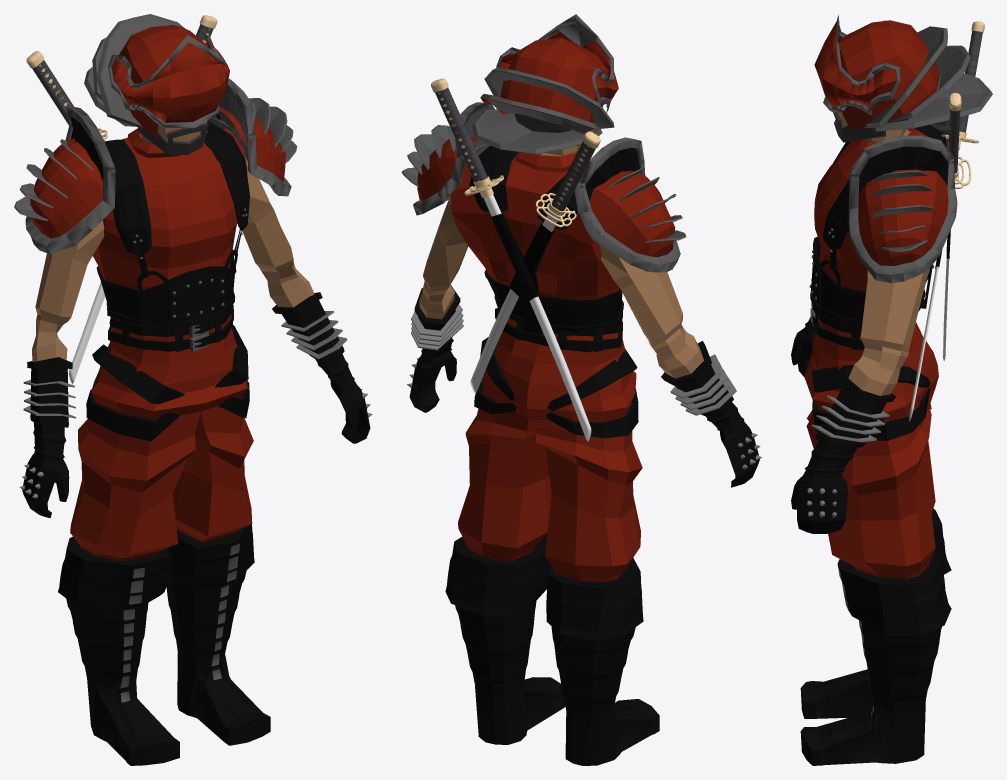
File: SS Soldier_Red_Second_Class_(srasmussen).fbx
3 views of the same model, side by side, from view 1: azimuth 30°, elevation 25°; view 2: azimuth 150°, elevation 25°; view 3: azimuth 270°, elevation 25° (orthographic).
Visible parts, largest first — view 1: SS_Pants.001, SS_Boots R, SS_Boots L, SS_Torso.001, SS_Harness, SS_Shoulder Plates.001, SS_Gloves, LPH_Arms.001, SS_Helmet Visor.002, SS_Helmet.008, SS_Pants.Leg_Straps.002, SS_Helmet.005 (+8 smaller); view 2: SS_Pants.001, SS_Boots R, SS_Boots L, SS_Shoulder Plates.001, SS_Torso.001, LPH_Arms.001, SS_Gloves, SS_Helmet.008, SS_Harness, SS_Helmet.007, SS_Helmet.005, SS_Pants.Leg_Straps.002 (+11 smaller); view 3: SS_Boots L, SS_Pants.001, SS_Shoulder Plates.001, SS_Gloves, SS_Helmet.008, LPH_Arms.001, SS_Harness, SS_Torso.001, SS_Boots R, SS_Helmet Visor.002, SS_Helmet.007, SS_Helmet.005 (+10 smaller).
Part boxes in pixels (<box>): SS_Pants.001: <box>70,314,253,561</box>; SS_Boots R: <box>58,536,179,765</box>; SS_Boots L: <box>166,524,270,745</box>; SS_Torso.001: <box>93,128,247,289</box>; SS_Harness: <box>96,122,249,351</box>; SS_Shoulder Plates.001: <box>25,79,291,254</box>; SS_Gloves: <box>22,292,370,518</box>; LPH_Arms.001: <box>32,156,314,361</box>; SS_Helmet Visor.002: <box>111,38,229,122</box>; SS_Helmet.008: <box>92,25,210,137</box>; SS_Pants.Leg_Straps.002: <box>92,325,248,404</box>; SS_Helmet.005: <box>14,98,297,220</box>; SS_Pants.001: <box>458,318,642,581</box>; SS_Boots R: <box>546,558,659,765</box>; SS_Boots L: <box>445,533,565,744</box>; SS_Shoulder Plates.001: <box>413,102,680,272</box>; SS_Torso.001: <box>450,151,619,299</box>; LPH_Arms.001: <box>419,195,703,378</box>; SS_Gloves: <box>409,285,759,487</box>; SS_Helmet.008: <box>480,38,608,133</box>; SS_Harness: <box>469,145,623,351</box>; SS_Helmet.007: <box>472,109,602,154</box>; SS_Helmet.005: <box>401,125,686,242</box>; SS_Pants.Leg_Straps.002: <box>480,337,637,411</box>; SS_Boots L: <box>800,553,951,765</box>; SS_Pants.001: <box>804,318,938,578</box>; SS_Shoulder Plates.001: <box>848,120,957,283</box>; SS_Gloves: <box>791,317,895,533</box>; SS_Helmet.008: <box>839,20,970,129</box>; LPH_Arms.001: <box>848,268,929,395</box>; SS_Harness: <box>810,125,946,349</box>; SS_Torso.001: <box>814,128,947,291</box>; SS_Boots R: <box>800,508,951,718</box>; SS_Helmet Visor.002: <box>814,21,896,107</box>; SS_Helmet.007: <box>871,73,992,131</box>; SS_Helmet.005: <box>871,171,932,252</box>.
Bounding box in the file's own units: 242 × 476 × 121.
10 materials, 4 textured.
